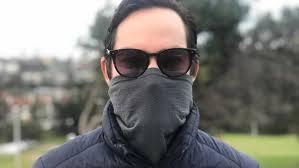scarf-kerchief: (102, 58, 195, 147)
sunglasses: (107, 39, 198, 88)
